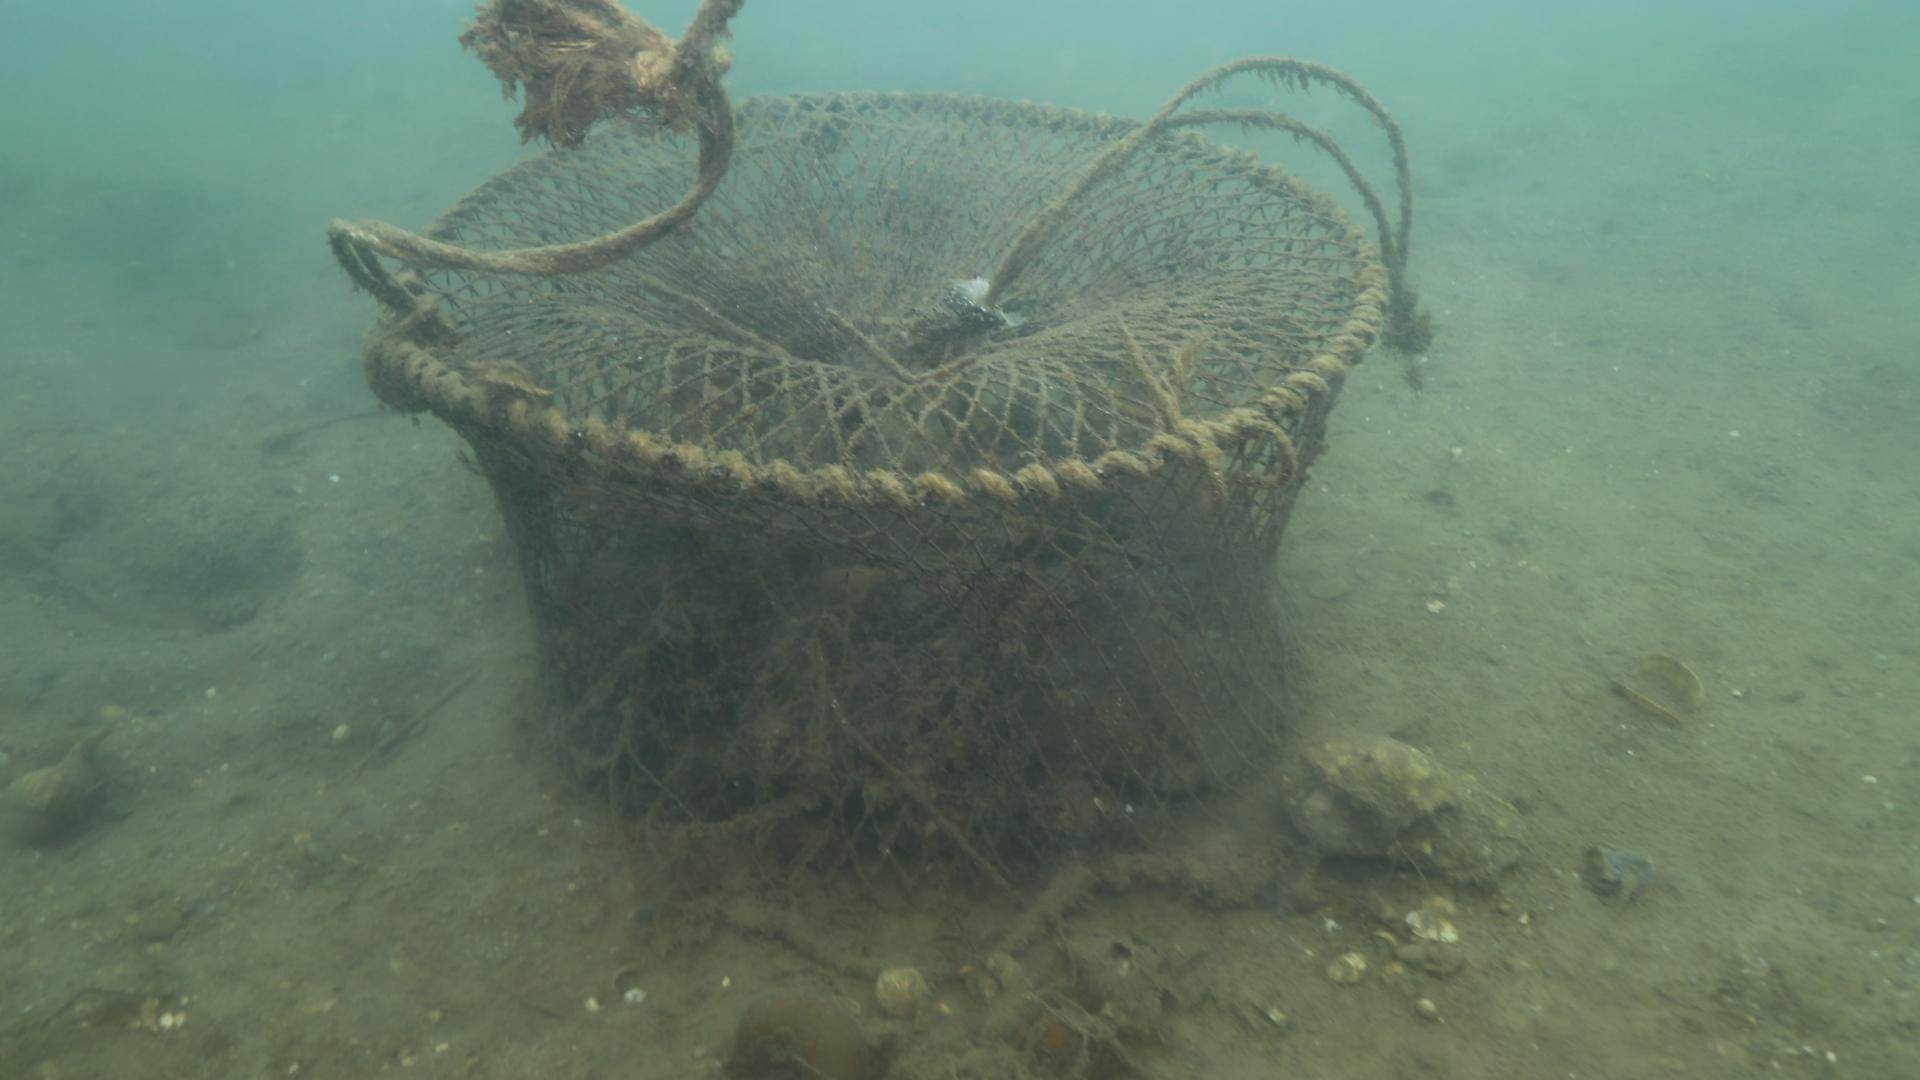bundle of ropes: (978, 54, 1416, 322), (320, 84, 735, 330)
circular fish trap: (363, 87, 1393, 874)
